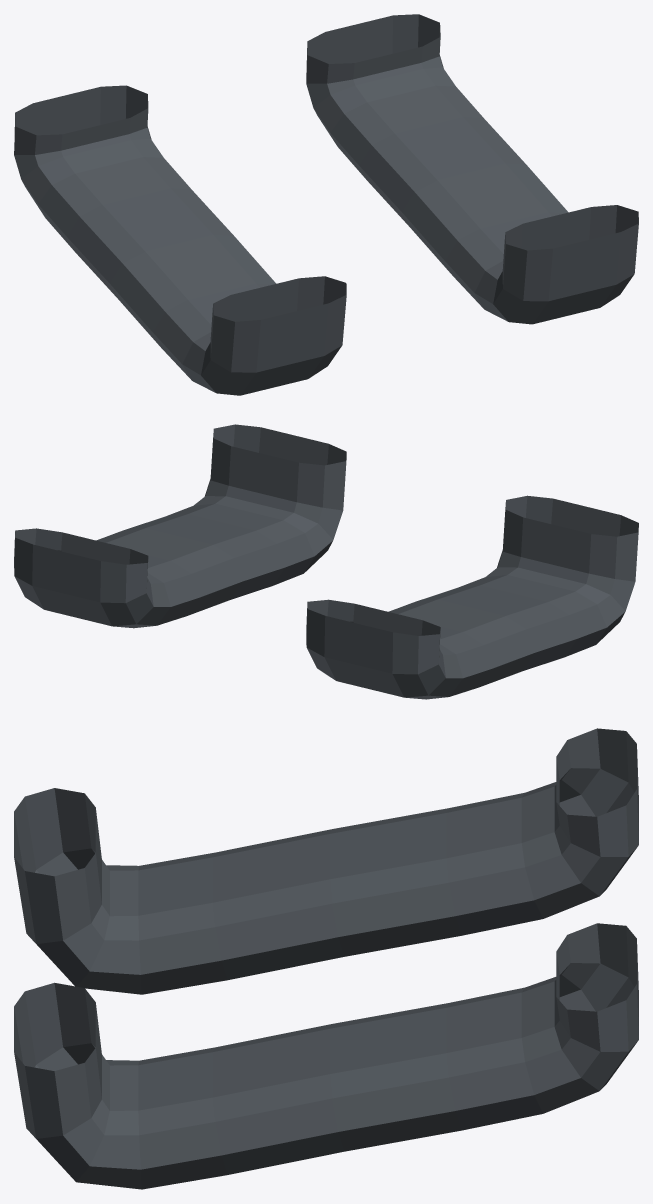
File: Personal_Vehicle_01_Exhaust_Pipes.fbx
The picture shows the model from 3 angles, top to bottom: view 1: azimuth 30°, elevation 25°; view 2: azimuth 150°, elevation 25°; view 3: azimuth 270°, elevation 25°; orthographic projection. The views are drawn at different scales.
Parts seen in each view (by area): view 1: Personal_Vehicle_01_Exhaust_Pipes; view 2: Personal_Vehicle_01_Exhaust_Pipes; view 3: Personal_Vehicle_01_Exhaust_Pipes.
Part boxes in pixels (box(x1,y1,x2,y2)): Personal_Vehicle_01_Exhaust_Pipes: box(14, 14, 638, 395); Personal_Vehicle_01_Exhaust_Pipes: box(14, 424, 638, 699); Personal_Vehicle_01_Exhaust_Pipes: box(14, 728, 638, 1189).
Size of the model in its own units: 46.93 by 15.53 by 43.76.
1 material, 1 textured.
